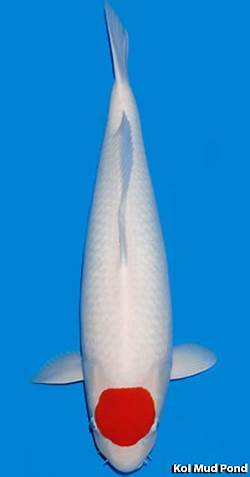sun: (34, 2, 217, 472)
